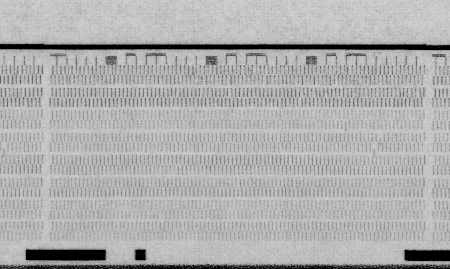Oblique printing: (375, 132, 387, 146), (368, 142, 380, 156), (2, 143, 11, 158)
